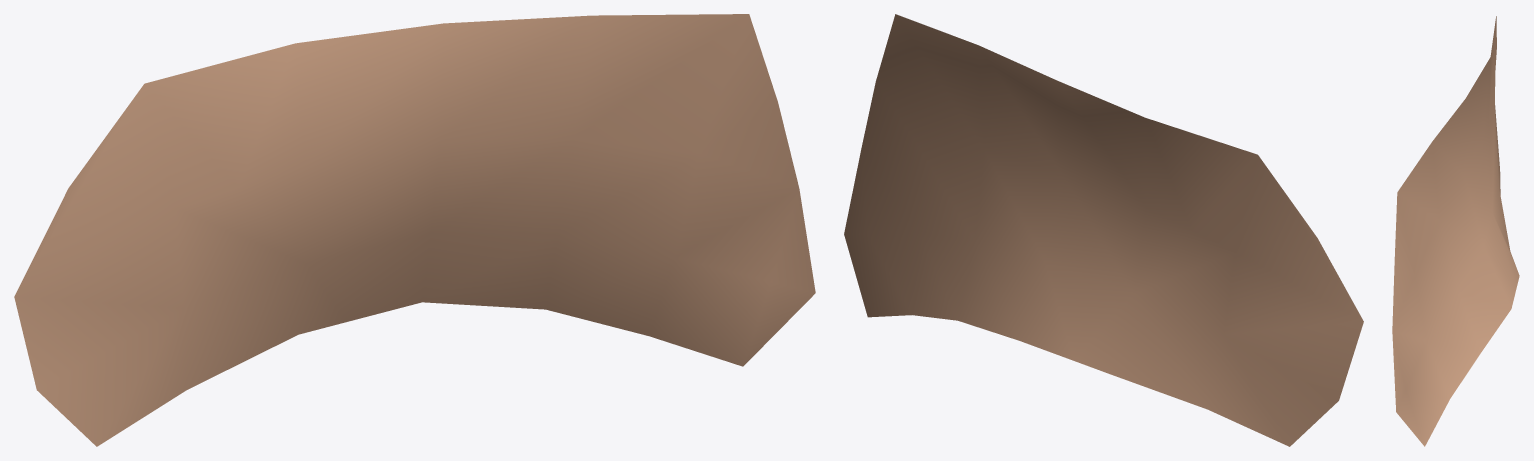
File: popliteal-fossa-l.glb
3 views of the same model, side by side, from view 1: azimuth 30°, elevation 25°; view 2: azimuth 150°, elevation 25°; view 3: azimuth 270°, elevation 25° (orthographic). The views are drawn at different scales.
Visible parts, largest first — view 1: Popliteal fossa.l; view 2: Popliteal fossa.l; view 3: Popliteal fossa.l.
Boxes of the visible parts, x1=… form: Popliteal fossa.l: x1=14, y1=14, x2=815, y2=446; Popliteal fossa.l: x1=844, y1=14, x2=1363, y2=446; Popliteal fossa.l: x1=1392, y1=16, x2=1519, y2=446.
Size of the model in its own units: 0.0809 by 0.041 by 0.0182.
